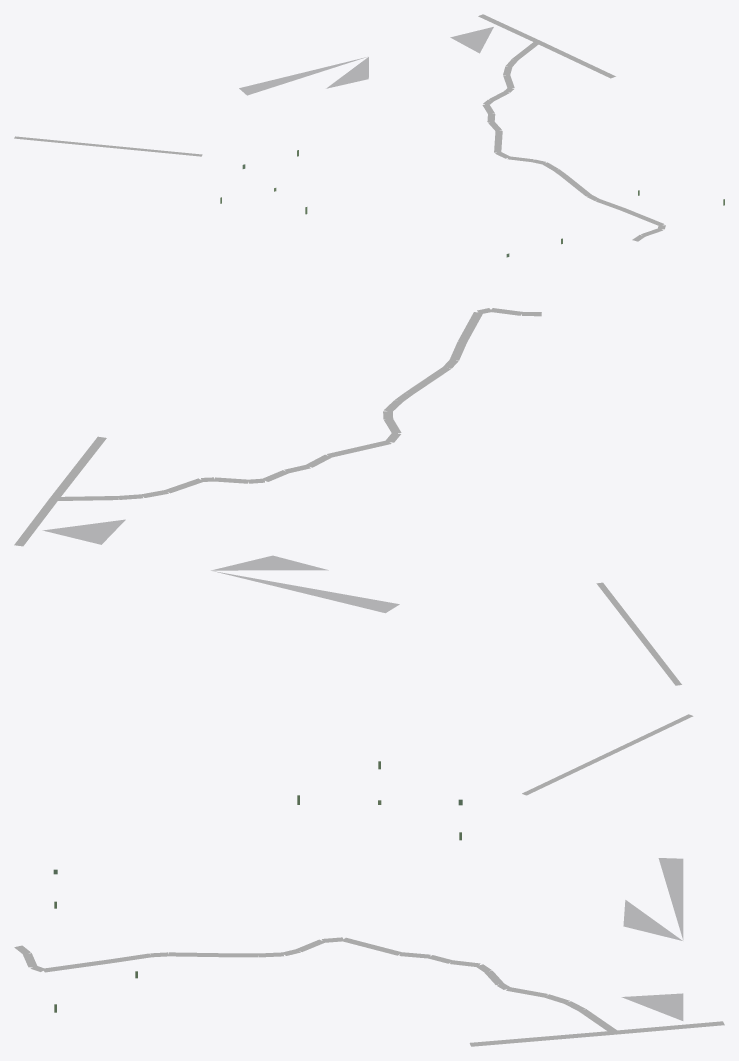
3 views of the same model, one above another, from view 1: azimuth 30°, elevation 25°; view 2: azimuth 150°, elevation 25°; view 3: azimuth 270°, elevation 25° (orthographic). The views are drawn at different scales.
Bounding box in the file's own units: 576 × 11.2 × 527.
